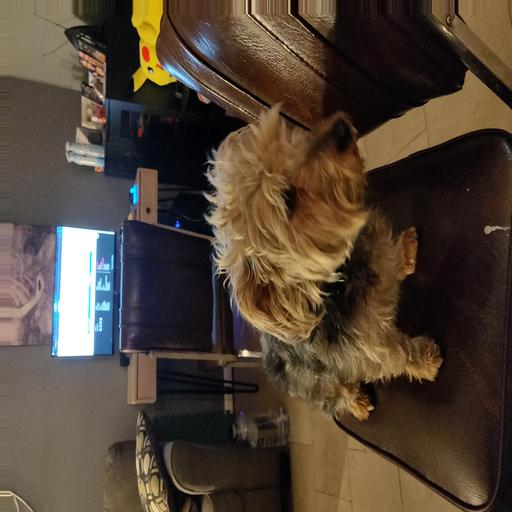dog: (200, 109, 470, 379)
